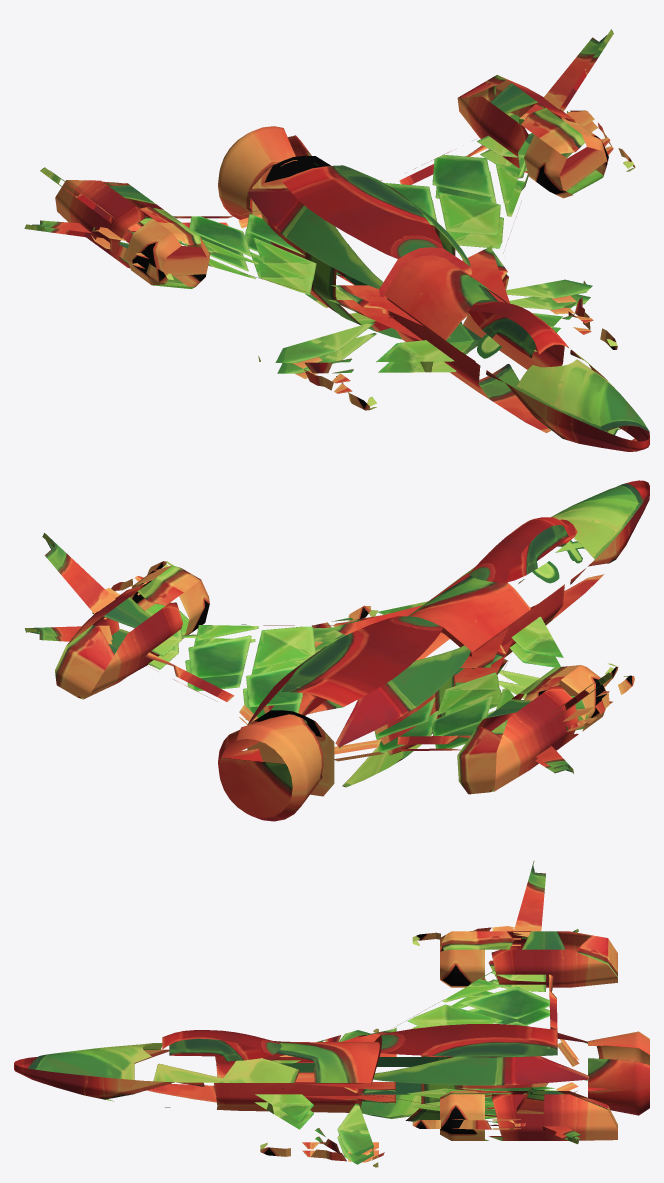
Rendered from navicella.obj.
The picture shows the model from 3 angles, top to bottom: view 1: azimuth 30°, elevation 25°; view 2: azimuth 150°, elevation 25°; view 3: azimuth 270°, elevation 25°; orthographic projection. The views are drawn at different scales.
Parts seen in each view (by area): view 1: StarSparrow_Wing.002; view 2: StarSparrow_Wing.002; view 3: StarSparrow_Wing.002.
Part boxes in pixels (box(x1,y1,x2,y2)): StarSparrow_Wing.002: box(24, 29, 649, 451); StarSparrow_Wing.002: box(25, 480, 649, 821); StarSparrow_Wing.002: box(14, 861, 649, 1167).
Size of what is drawn, in the model's own units: 9.43 by 2.73 by 10.78.
